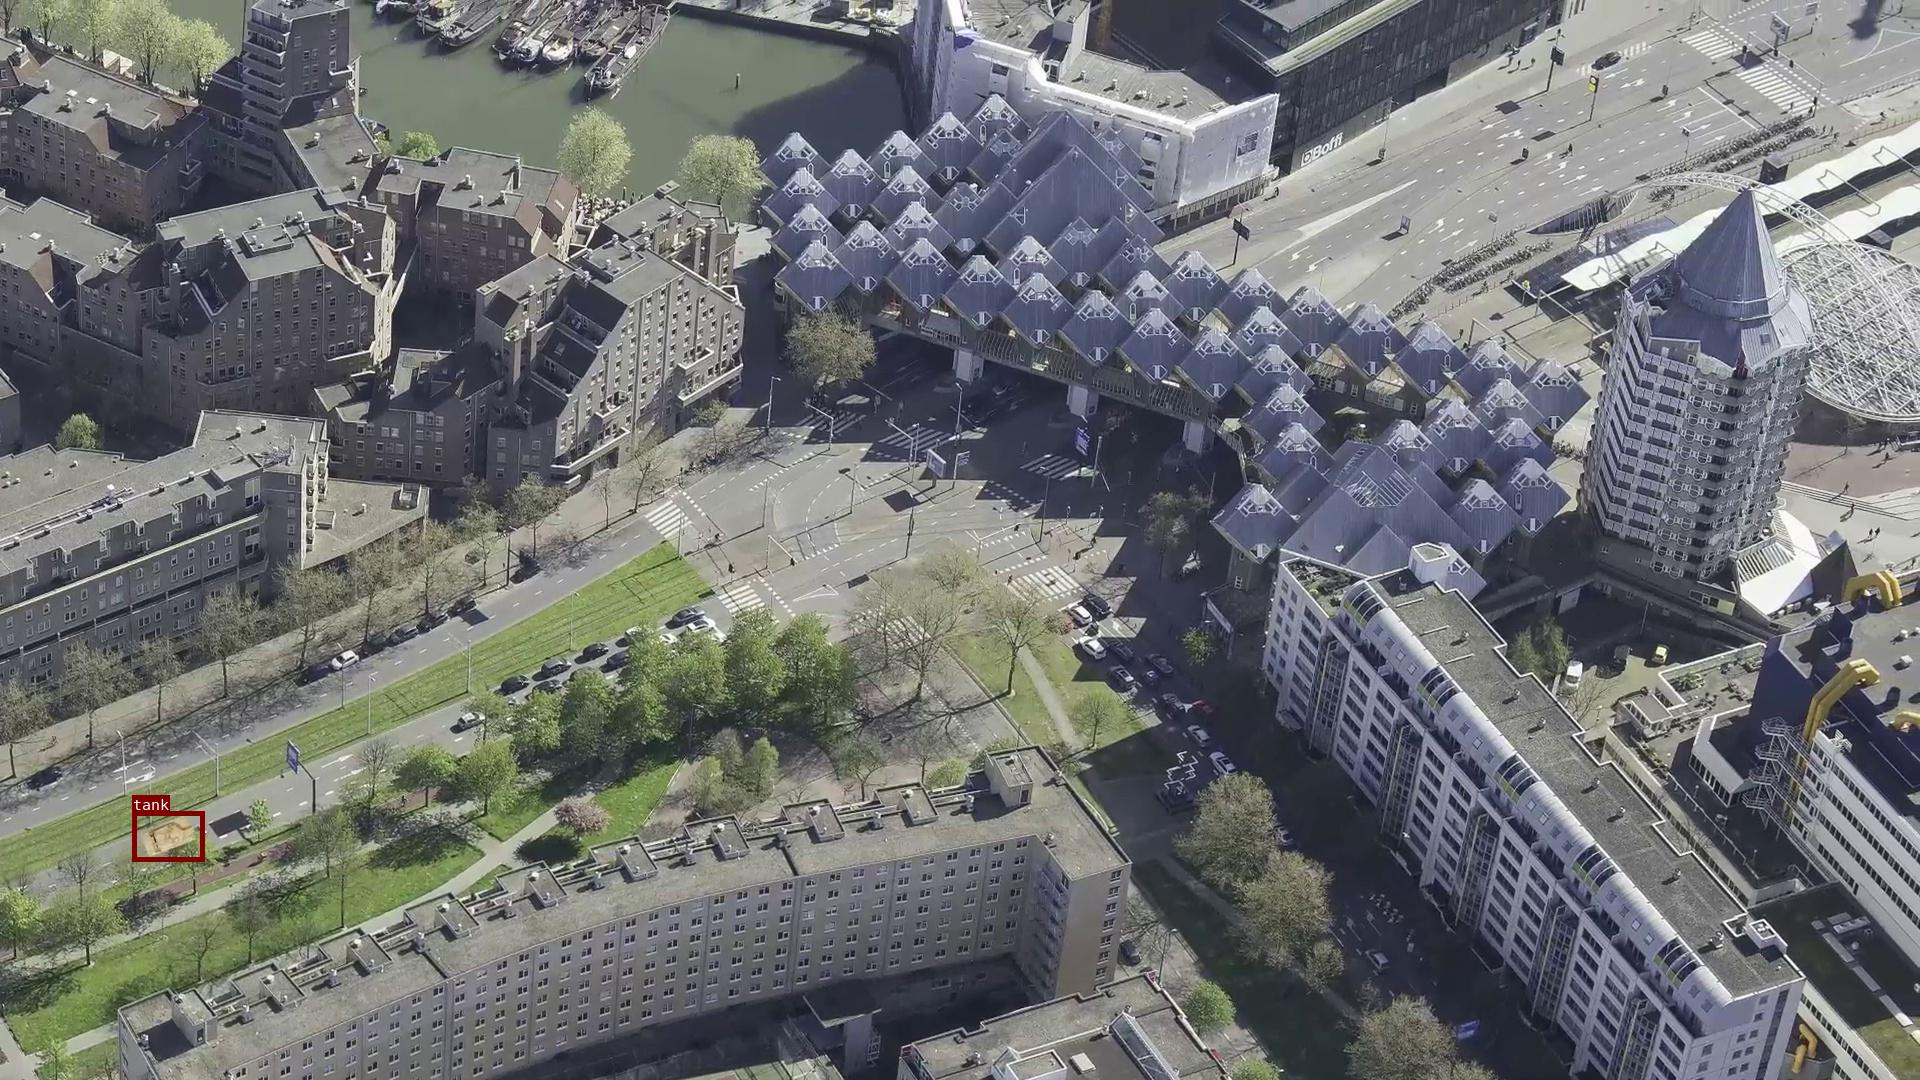tank: (132, 811, 204, 861)
